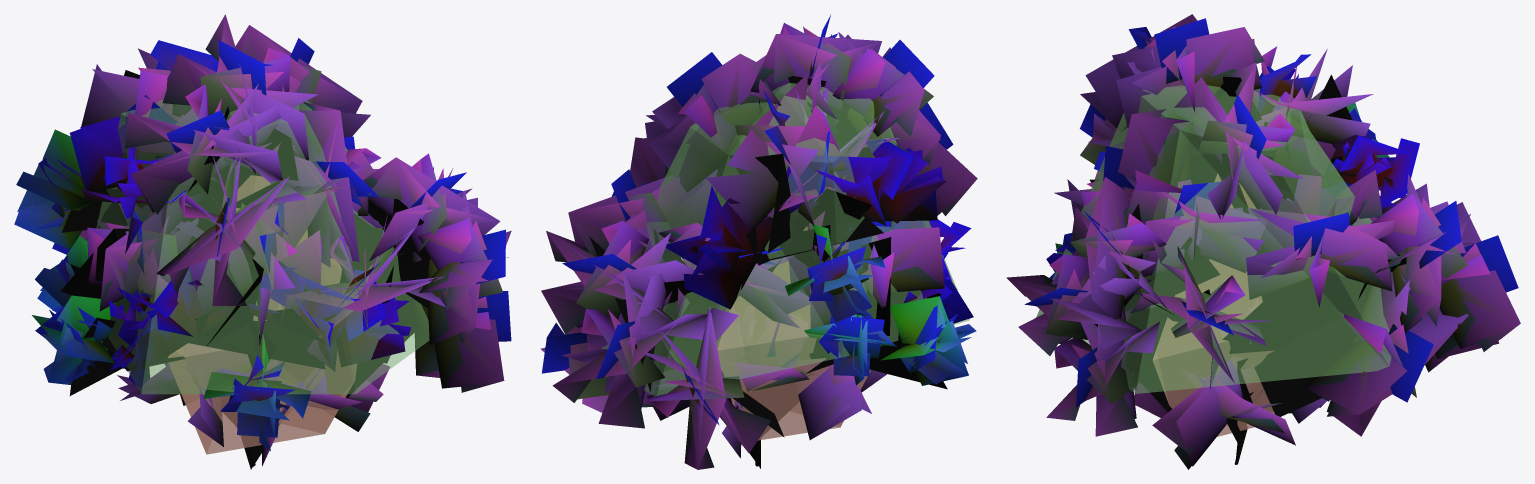
The model's file is holm_oak_bush.dae.
3 views of the same model, side by side, from view 1: azimuth 30°, elevation 25°; view 2: azimuth 150°, elevation 25°; view 3: azimuth 270°, elevation 25° (orthographic). The views are drawn at different scales.
Parts seen in each view (by area): view 1: holm_oak_bush_b1200, Colmesh-1, holm_oak_bush_b400; view 2: holm_oak_bush_b1200, holm_oak_bush_b400, Colmesh-1; view 3: holm_oak_bush_b1200, holm_oak_bush_b400, Colmesh-1.
Boxes of the visible parts, x1,y1,x2,y2 form: holm_oak_bush_b1200: [14, 14, 511, 469]; Colmesh-1: [96, 99, 429, 454]; holm_oak_bush_b400: [32, 16, 511, 466]; holm_oak_bush_b1200: [541, 23, 977, 469]; holm_oak_bush_b400: [541, 15, 977, 469]; Colmesh-1: [601, 83, 969, 440]; holm_oak_bush_b1200: [1007, 16, 1520, 469]; holm_oak_bush_b400: [1007, 14, 1520, 466]; Colmesh-1: [1036, 80, 1391, 436].
Size of the model in its own units: 5.82 by 6.91 by 6.36.
